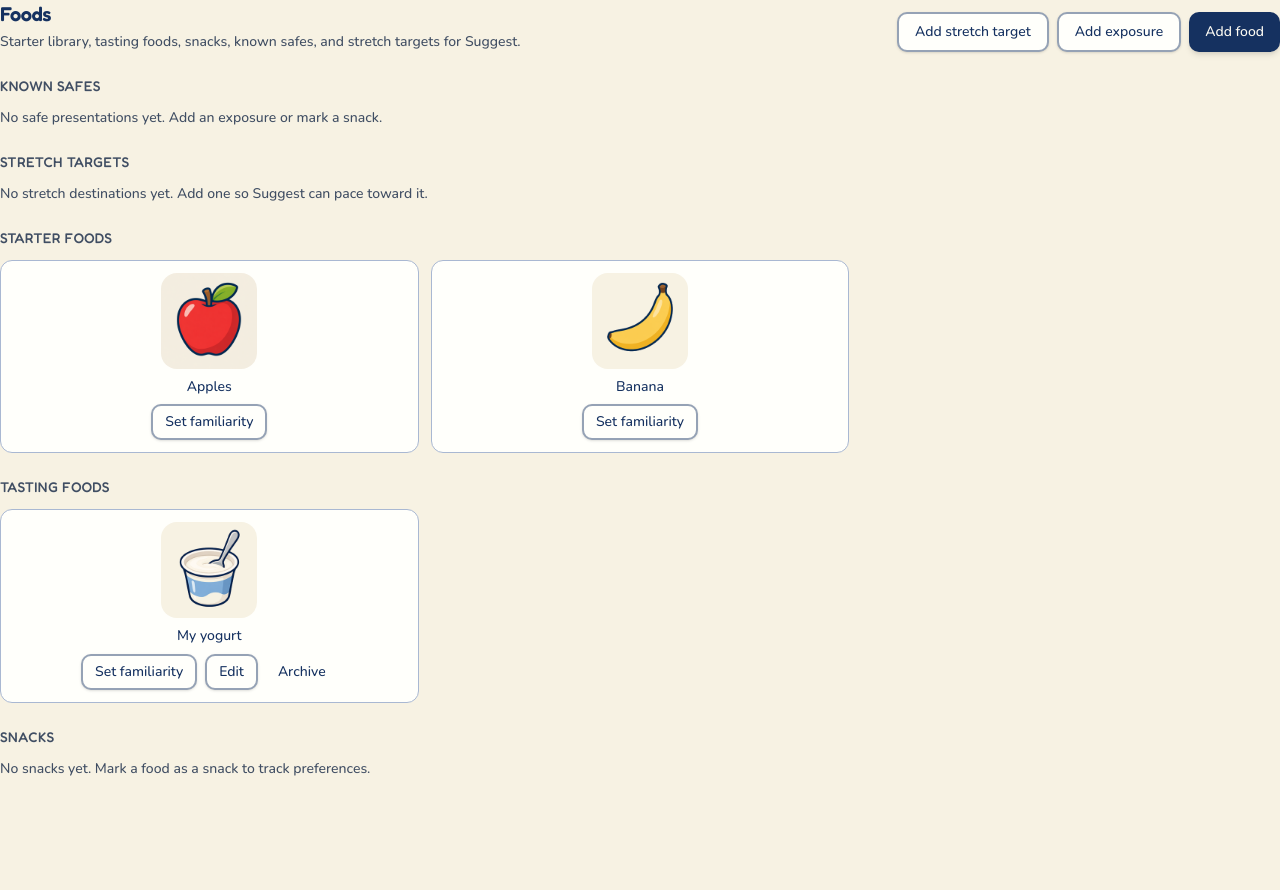
it: FoodsPage › edits and archives a household food
expect the text "My yogurt" is shown: met, box 177,626 -> 242,646
Click the button "Edit". click: (232, 672)
box: 205,654 -> 258,690
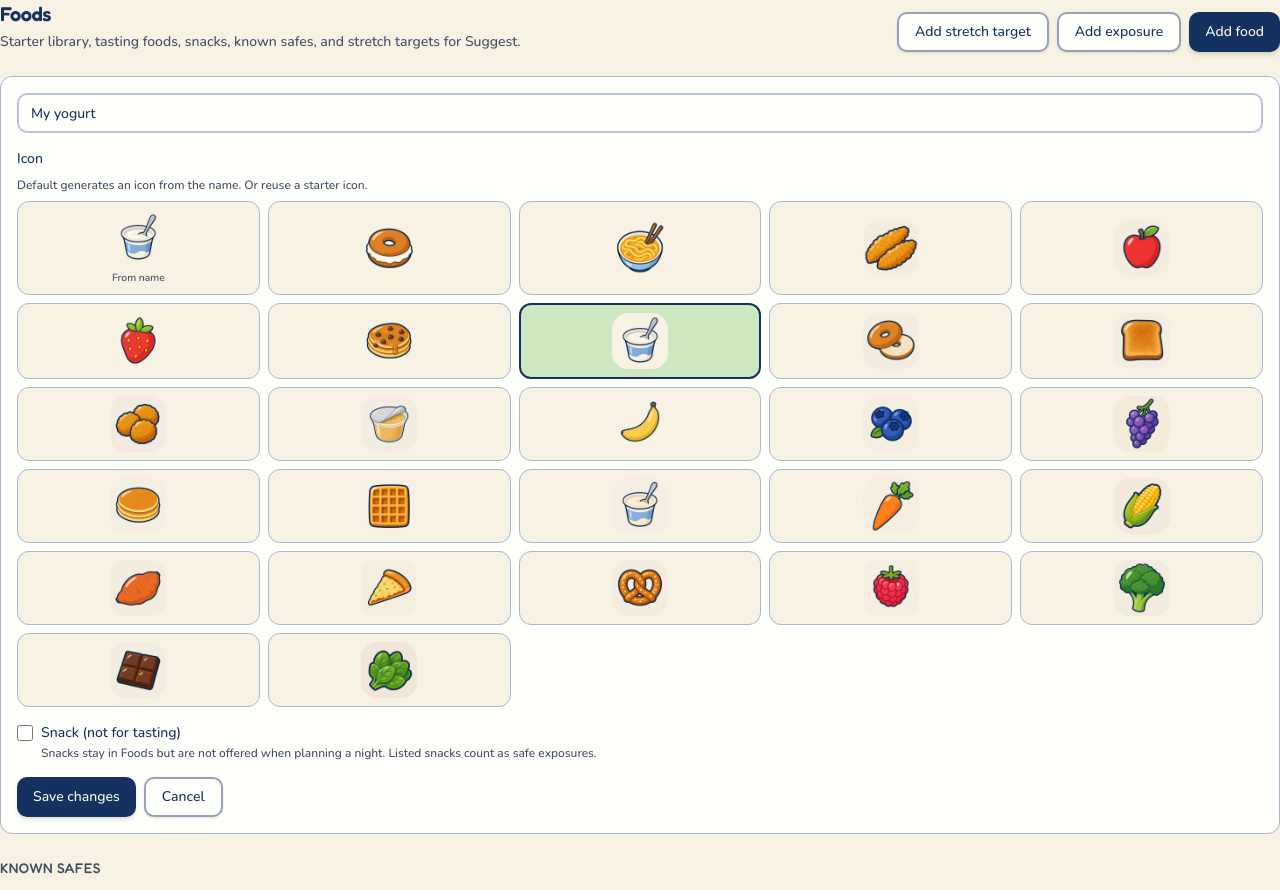
Replace the text in the field named "Food name" with "Vanilla cup". click: (640, 113)
box: 17,93 -> 1263,133
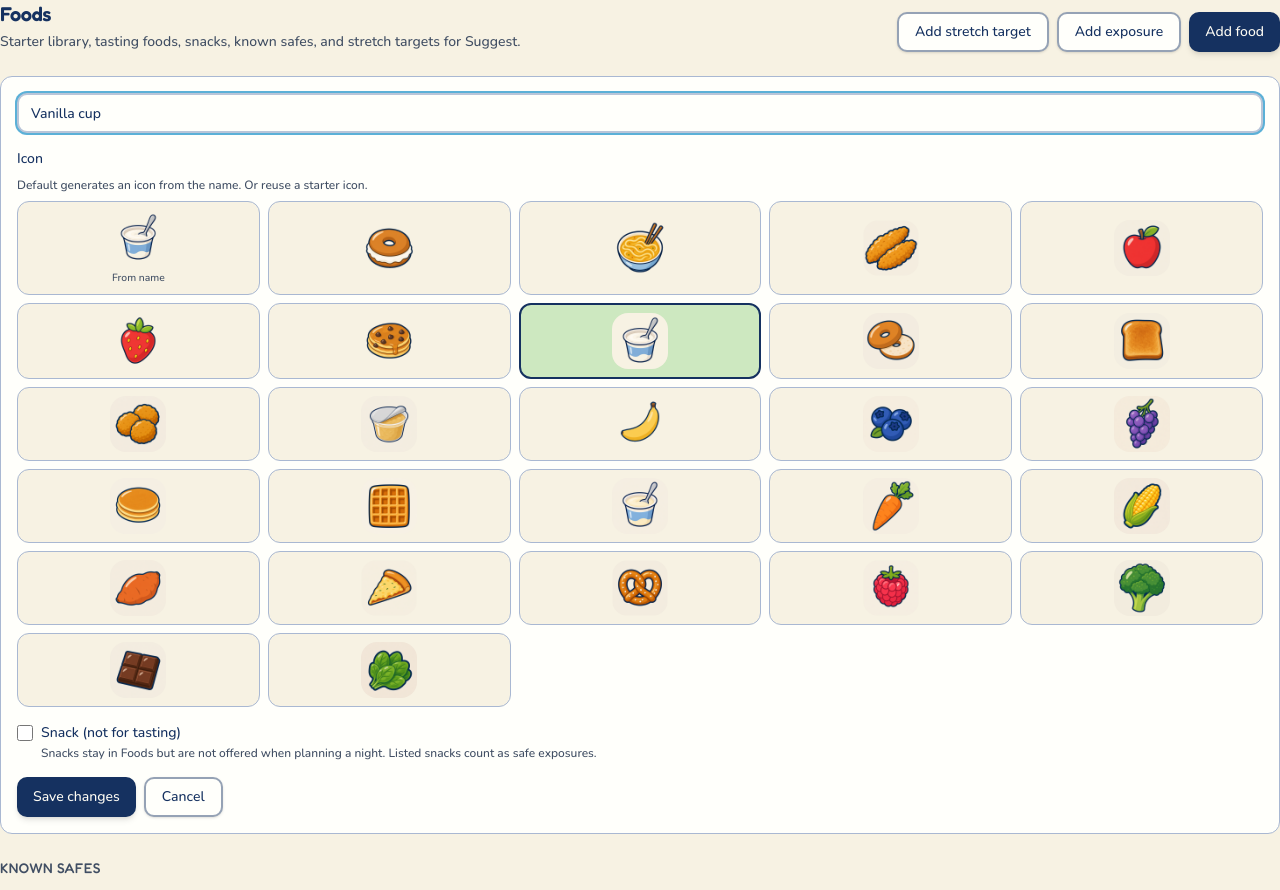
Click the option named "Vanilla yogurt". click: (640, 506)
box: 519,469 -> 761,543
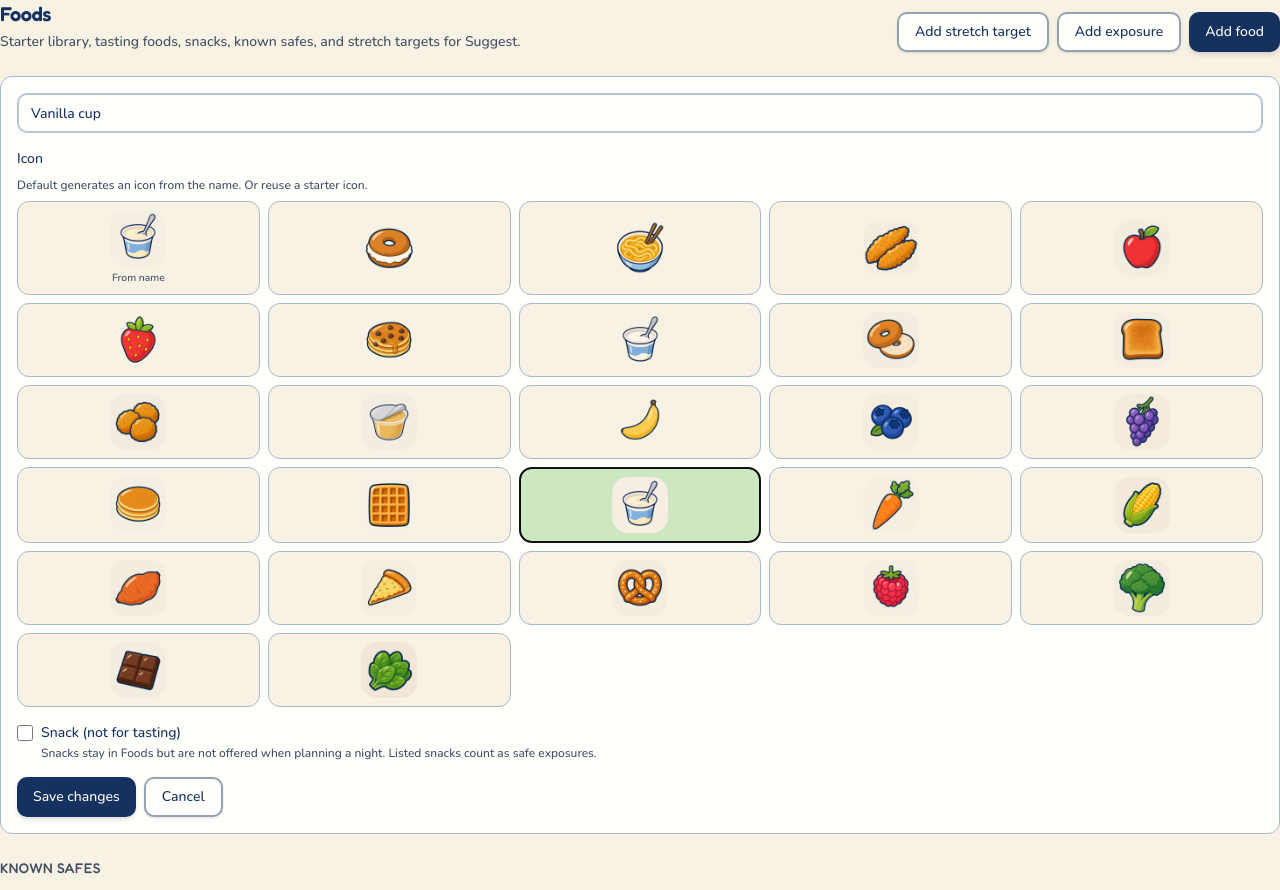
Click the button "Save changes". click: (76, 797)
box: 17,777 -> 136,817
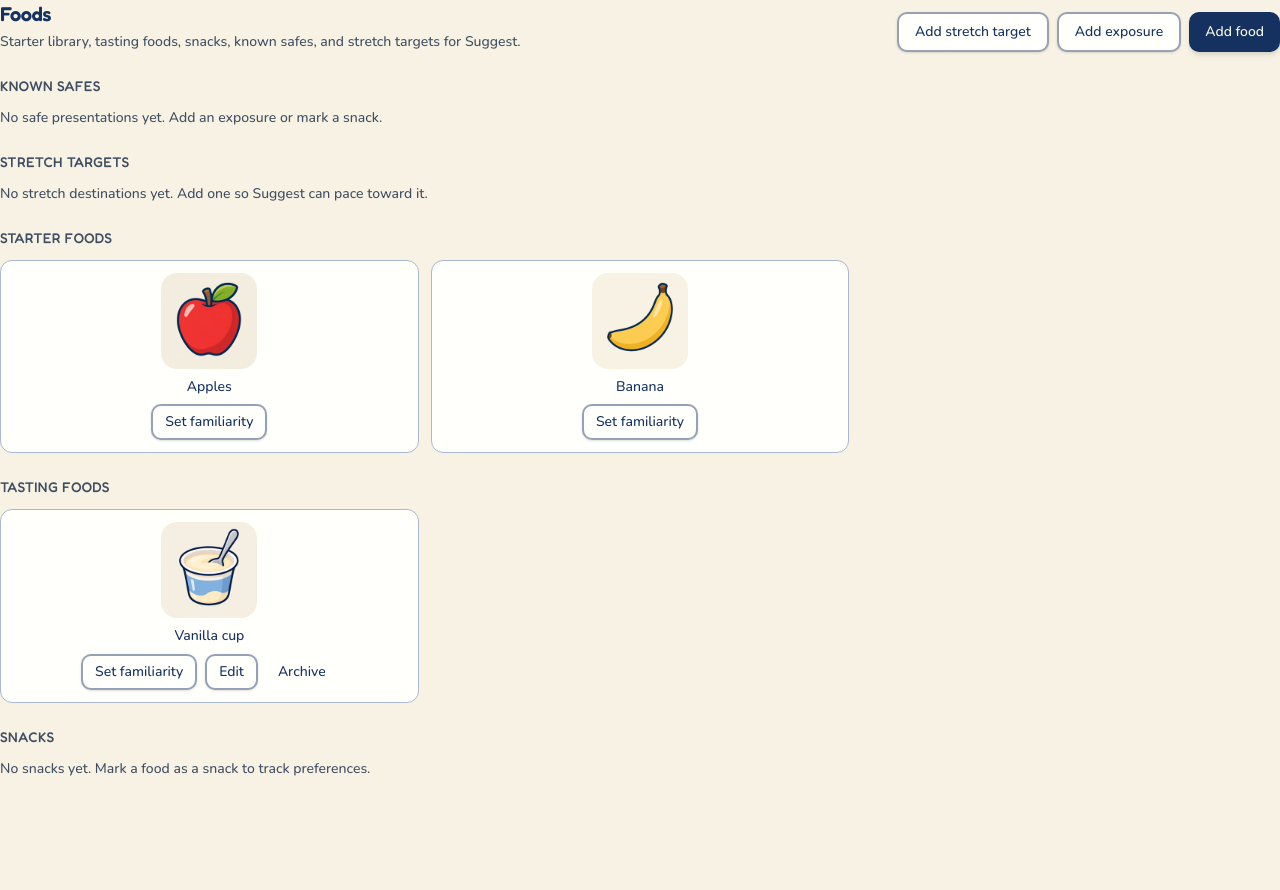
expect the text "Vanilla cup" is shown: met, box 174,626 -> 244,646
Click the button "Archive". click: (302, 672)
box: 266,654 -> 338,690
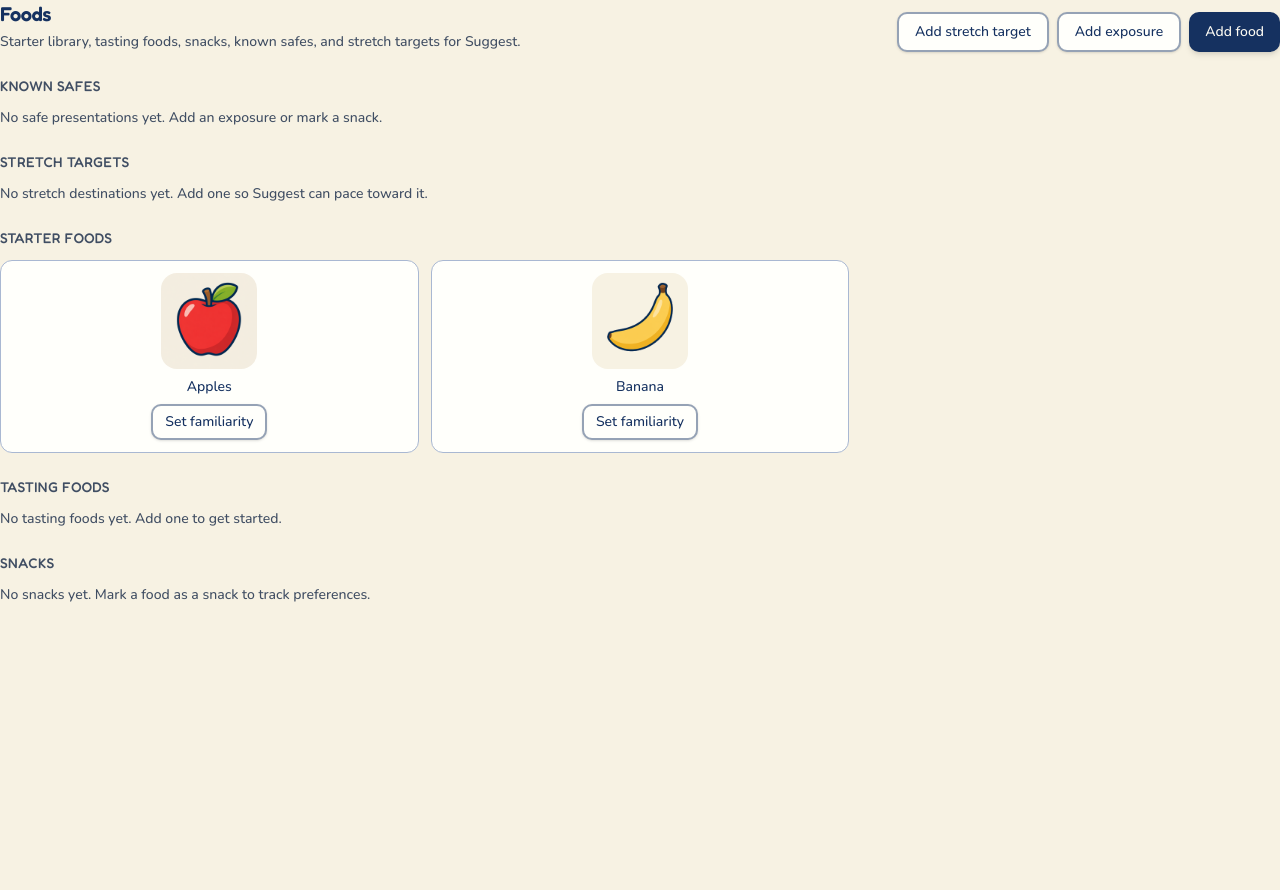
expect the text "Vanilla cup" is gone: met
